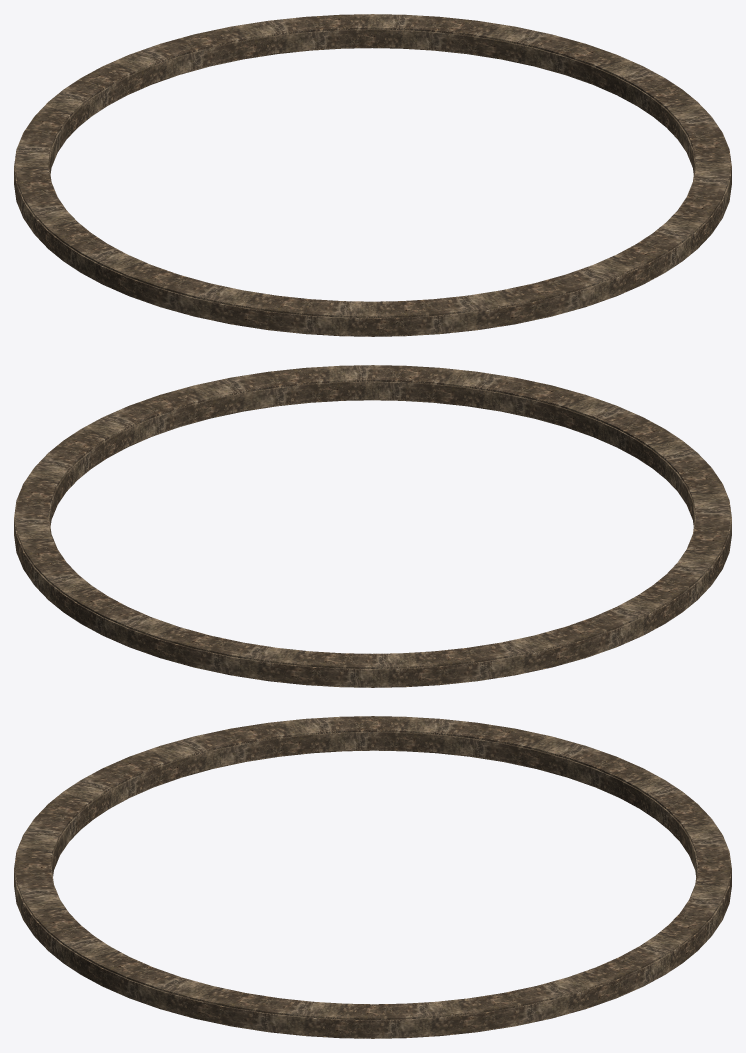
The model's file is materials_5_stonestick_circle_5.fbx.
3 renders of one model, top to bottom at view 1: azimuth 30°, elevation 25°; view 2: azimuth 150°, elevation 25°; view 3: azimuth 270°, elevation 25°, orthographic.
Visible parts, largest first — view 1: materials_5_stonestick_circle_5; view 2: materials_5_stonestick_circle_5; view 3: materials_5_stonestick_circle_5.
Boxes of the visible parts, x1,y1,x2,y2 form: materials_5_stonestick_circle_5: (14,14,731,336); materials_5_stonestick_circle_5: (14,365,731,687); materials_5_stonestick_circle_5: (14,716,731,1038).
Size of the model in its own units: 723 by 22.68 by 723.
